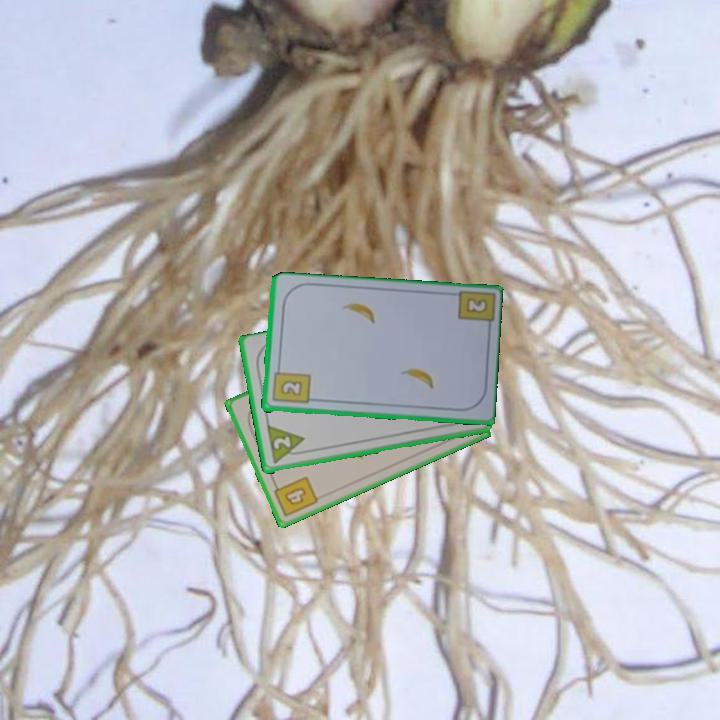2b: (269, 363, 312, 407), (462, 294, 490, 316)
2p: (263, 423, 309, 467)
4b: (269, 473, 321, 520)
